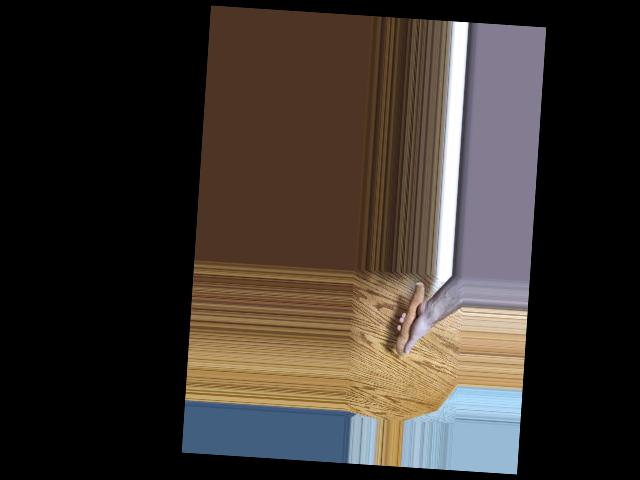sweet_potato: (394, 280, 426, 356)
